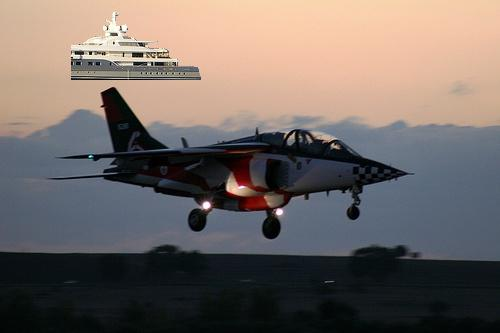tampered: (72, 13, 201, 80)
